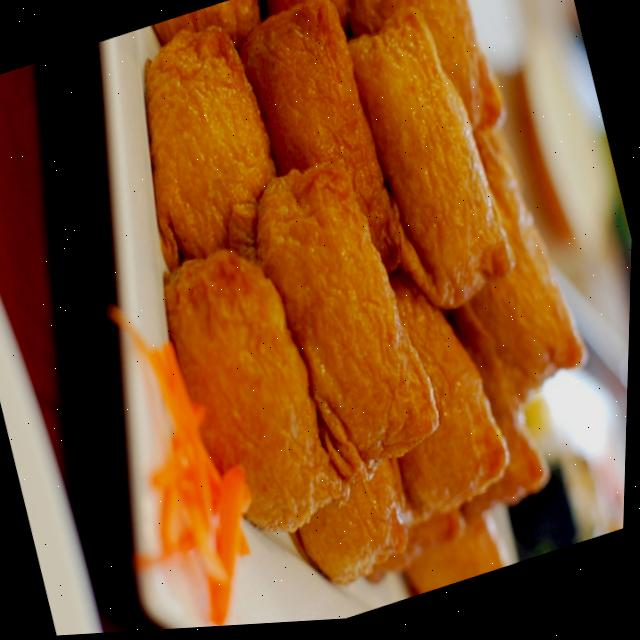寿司卷物: (18, 0, 640, 638)
